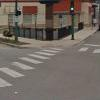Crosswalk: (2, 42, 59, 87)
